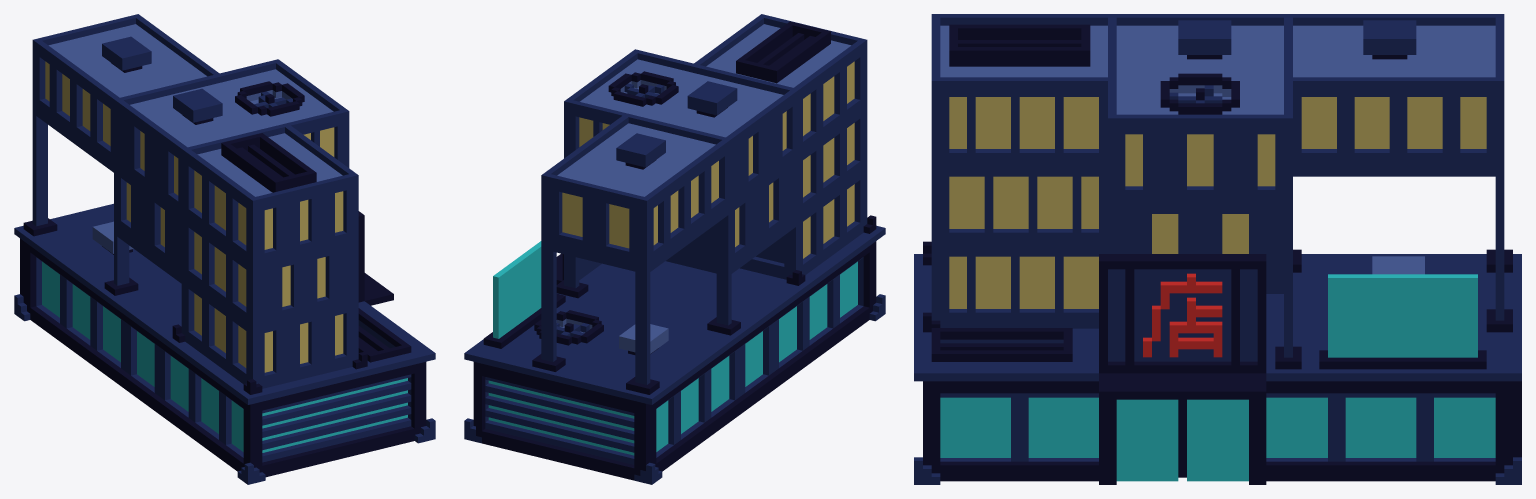
The model's file is SM_Environment_Building2.fbx.
The picture shows the model from 3 angles, left to right: view 1: azimuth 30°, elevation 25°; view 2: azimuth 150°, elevation 25°; view 3: azimuth 270°, elevation 25°; orthographic projection. The views are drawn at different scales.
Parts seen in each view (by area): view 1: SM_Environment_Building2; view 2: SM_Environment_Building2; view 3: SM_Environment_Building2.
Boxes of the visible parts, box(x1,y1,x2,y2) form: SM_Environment_Building2: box(14, 14, 435, 484); SM_Environment_Building2: box(464, 14, 885, 484); SM_Environment_Building2: box(914, 14, 1521, 484).
Size of the model in its own units: 740 by 940 by 1380.
Materials: 3 (1 with a texture image).
